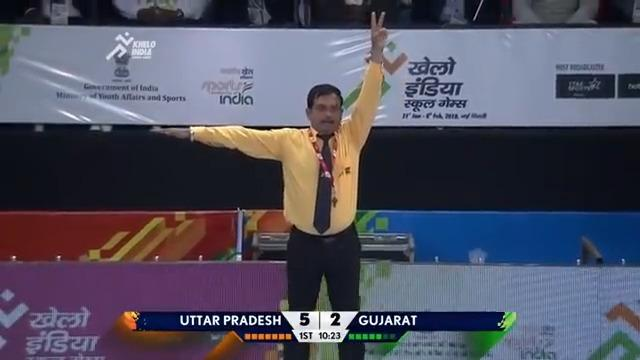referee: (150, 10, 391, 358)
